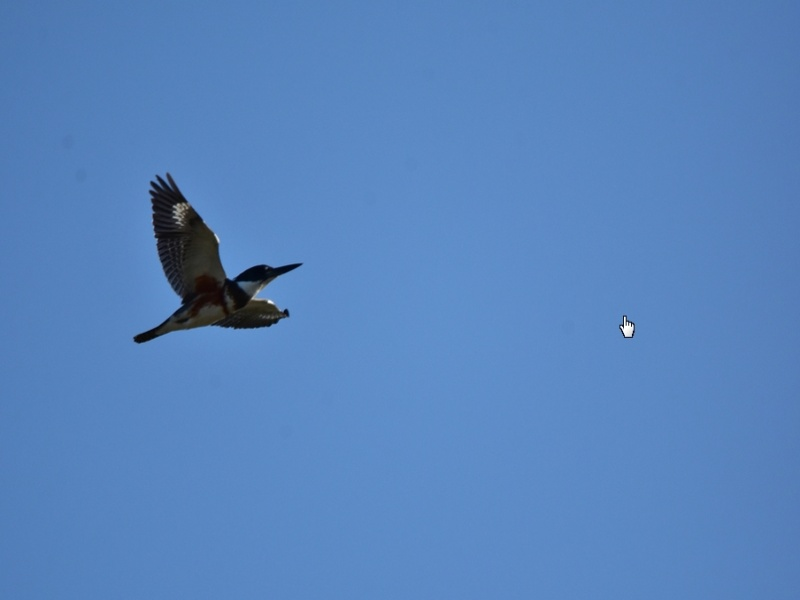kingfisher: (129, 160, 312, 351)
